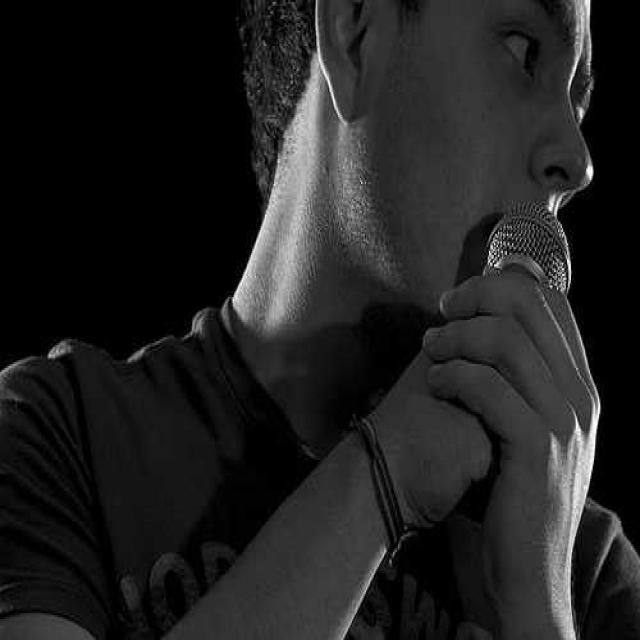microphone: (391, 188, 589, 536)
